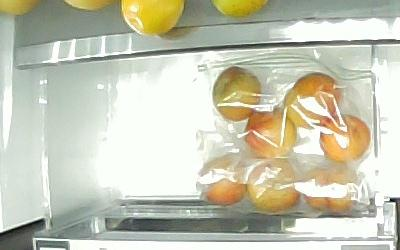prune_vinyl: (281, 70, 342, 129), (245, 156, 301, 212), (299, 163, 358, 213), (241, 107, 297, 159), (211, 64, 261, 121), (318, 112, 370, 161), (200, 153, 247, 205)
